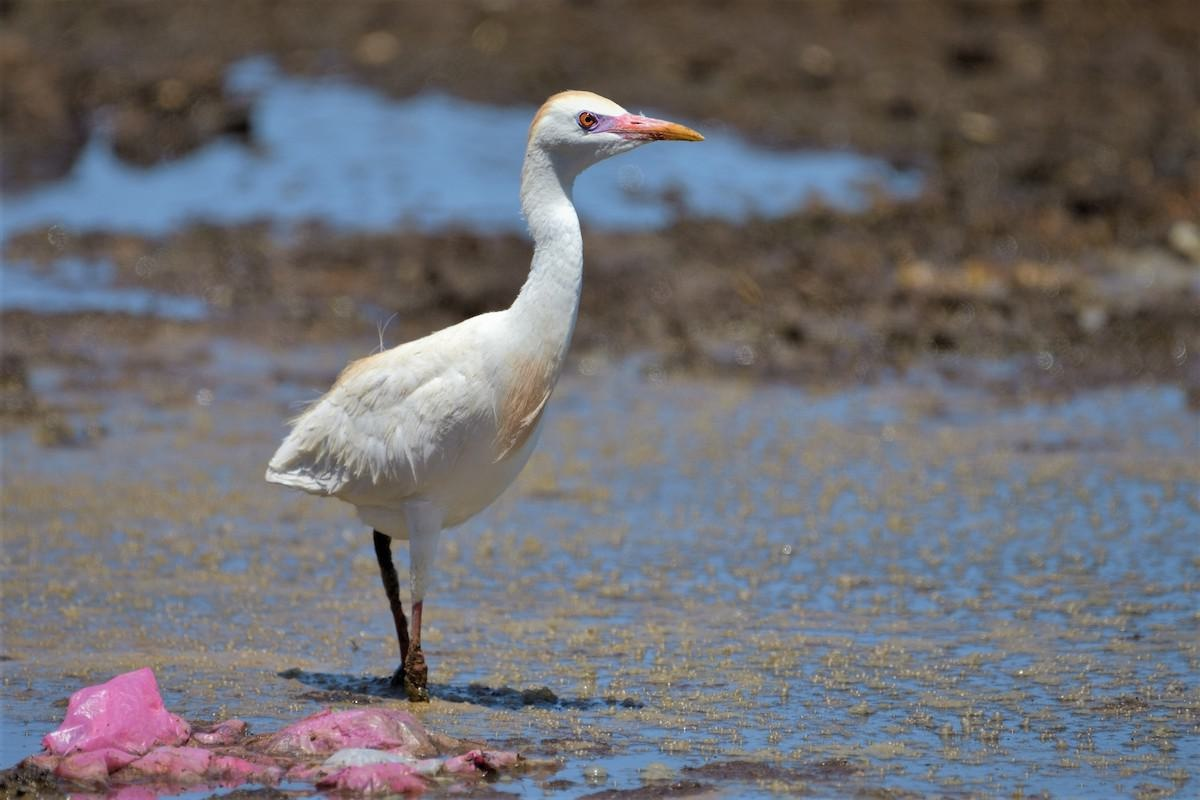egret: (230, 88, 717, 720)
